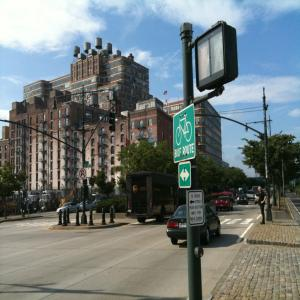Vehicle-registration-plate: (179, 224, 187, 229)
